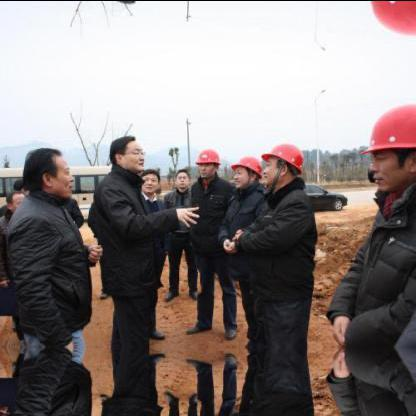Helmet: (361, 99, 414, 195), (360, 0, 414, 38), (262, 138, 304, 186), (230, 153, 262, 187), (194, 144, 220, 180)
No Helmet: (20, 143, 72, 197), (106, 131, 146, 173), (138, 163, 162, 195), (6, 187, 26, 215), (174, 166, 190, 190)
